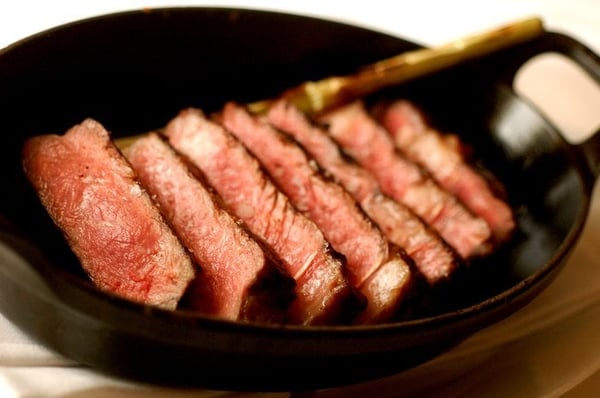sushi: (3, 7, 582, 385)
